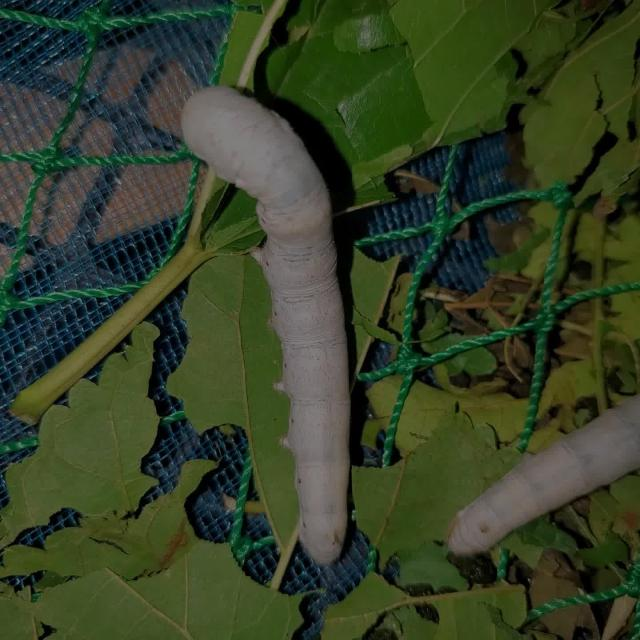Healthy: (153, 65, 387, 572)
